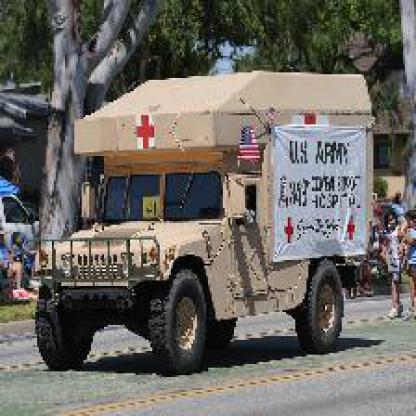emergency: (21, 59, 375, 364)
